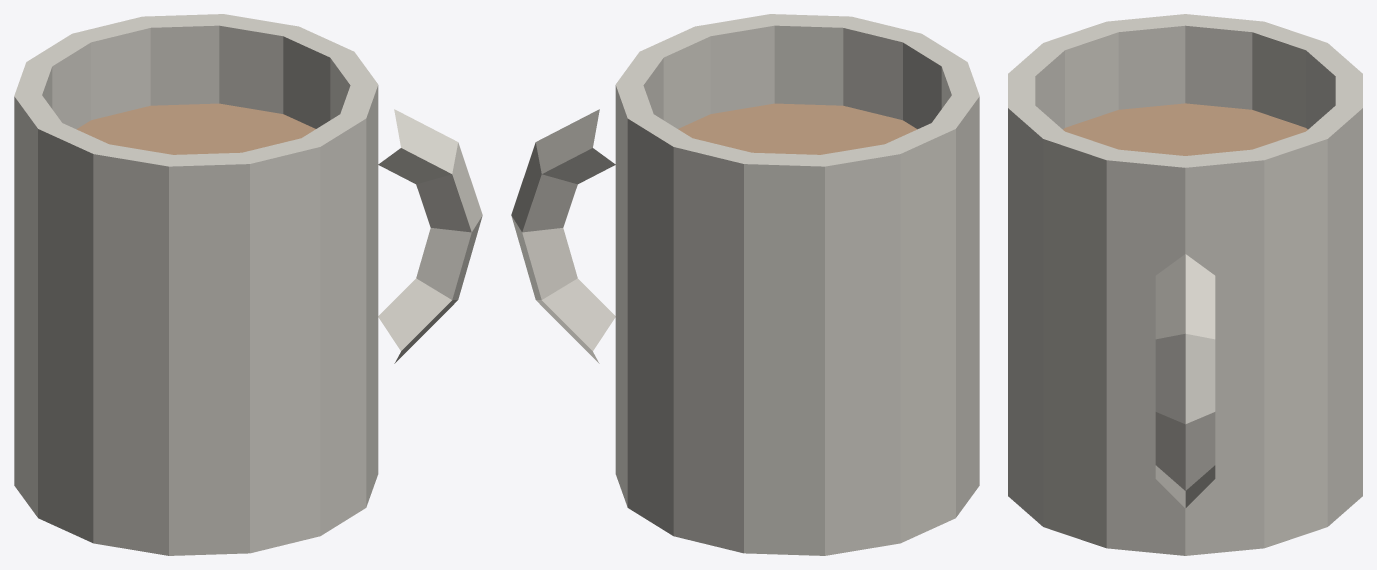
Rendered from lab_mug.glb.
3 renders of one model, left to right at view 1: azimuth 30°, elevation 25°; view 2: azimuth 150°, elevation 25°; view 3: azimuth 270°, elevation 25°, orthographic.
Visible parts, largest first — view 1: lab_mug; view 2: lab_mug; view 3: lab_mug.
Part boxes in pixels (bbox=[...]): lab_mug: bbox=[14, 14, 482, 555]; lab_mug: bbox=[511, 14, 979, 555]; lab_mug: bbox=[1008, 14, 1362, 555].
Size of the model in its own units: 0.239 by 0.2 by 0.1657.
